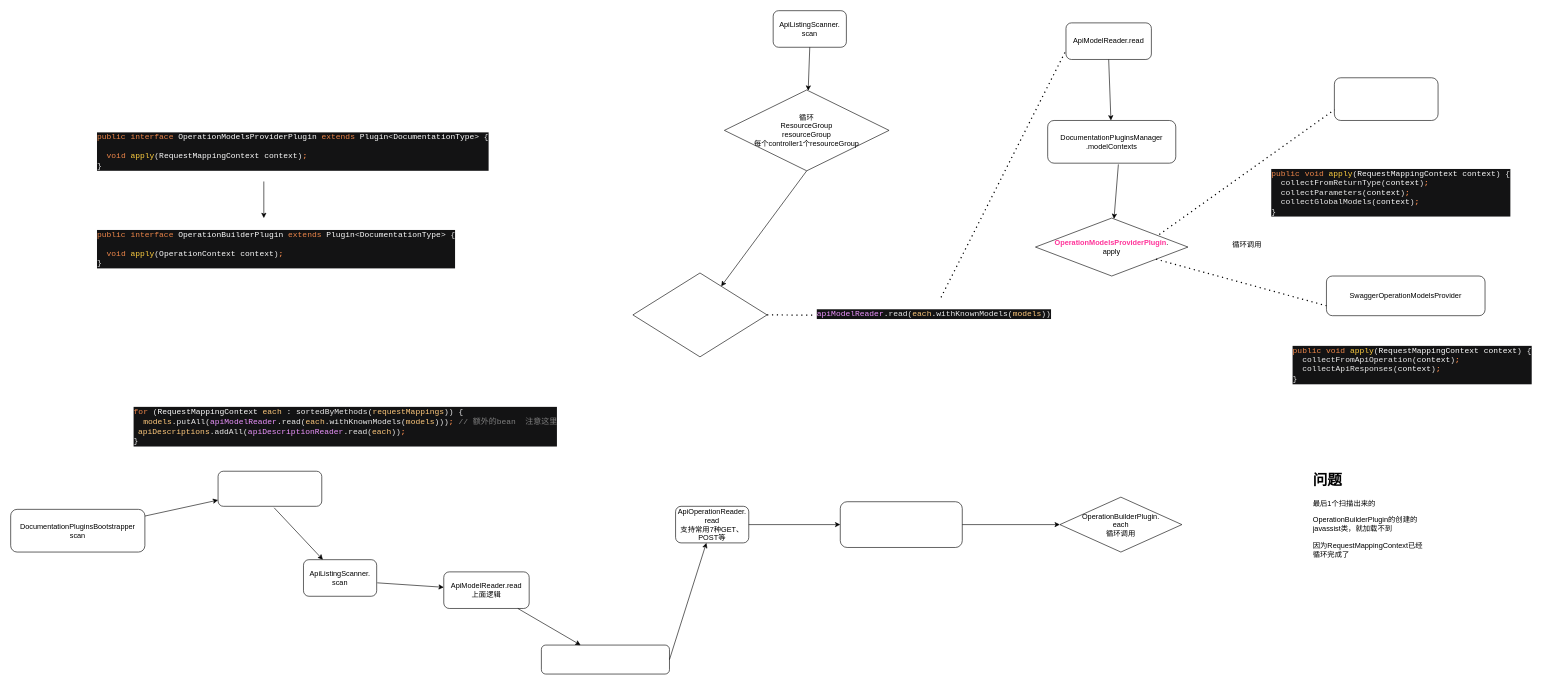
Image size: 1543x685. Some labels were removed from this diagram. Each missing label, with the centre of its shape:
"ApiDescriptionReader. read" belongs at (x=605, y=659).
"ApiDocumentationScanner scan" belongs at (x=269, y=488).
"DocumentationPluginsManager. operation" belongs at (x=901, y=524).
"OperationModelsProvider" belongs at (x=1386, y=98).
"循环 List<RequestMappingContext> requestMappings 具体controller中的每个请求方法" belongs at (x=699, y=314).
